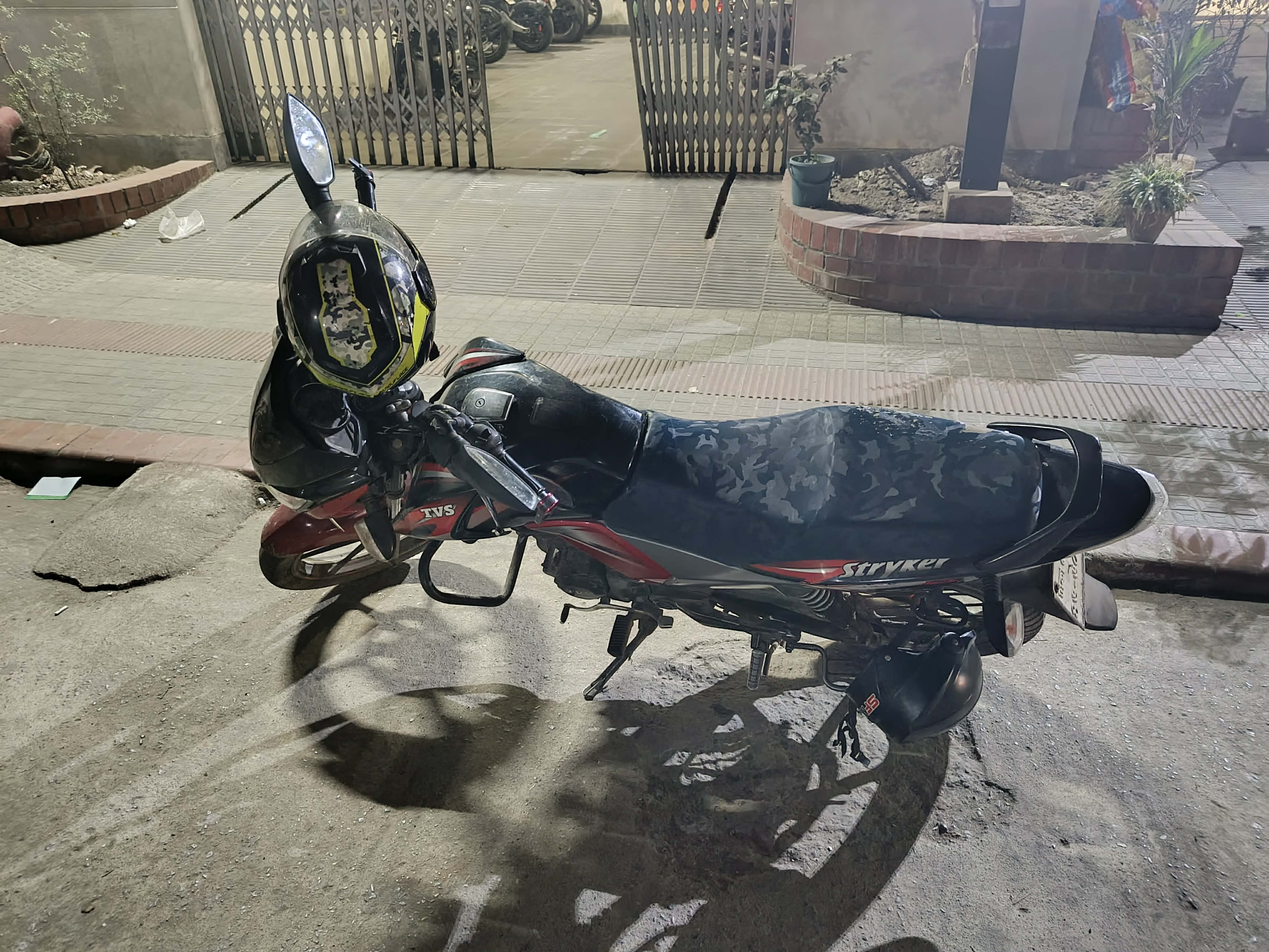Bikes: (237, 69, 1170, 843)
